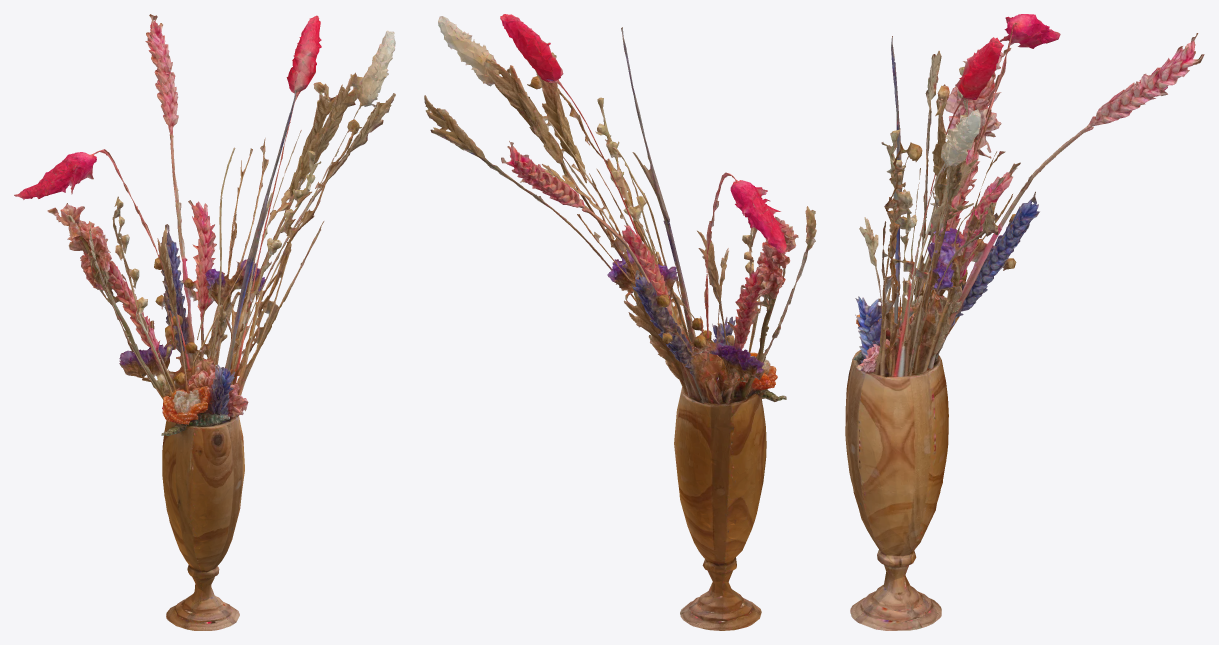
Rendered from sf-dried-flowers.glb.
The picture shows the model from 3 angles, left to right: view 1: azimuth 30°, elevation 25°; view 2: azimuth 150°, elevation 25°; view 3: azimuth 270°, elevation 25°; orthographic projection. The views are drawn at different scales.
Parts seen in each view (by area): view 1: dried flowers_dried flowers_0; view 2: dried flowers_dried flowers_0; view 3: dried flowers_dried flowers_0.
Boxes of the visible parts, x1,y1,x2,y2 form: dried flowers_dried flowers_0: (14, 14, 395, 630); dried flowers_dried flowers_0: (424, 14, 816, 630); dried flowers_dried flowers_0: (845, 14, 1204, 630).
Size of the model in its own units: 0.417 by 0.5991 by 0.2935.
1 material, 1 textured.
